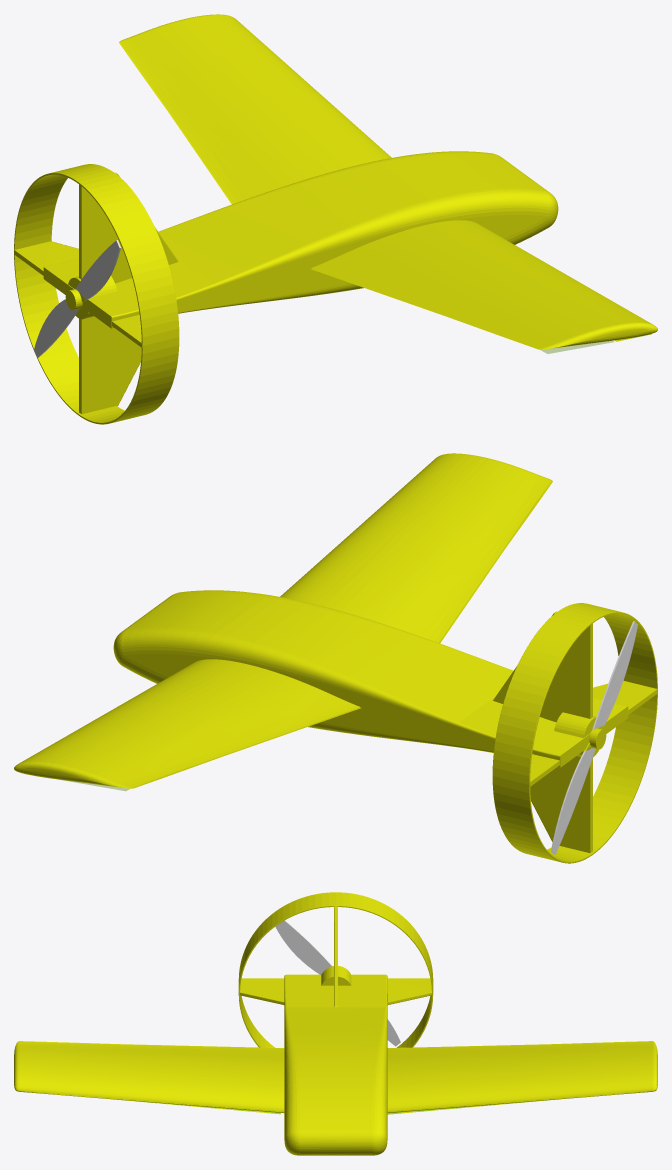
Rendered from Health Drone OG FBX.fbx.
3 views of the same model, one above another, from view 1: azimuth 30°, elevation 25°; view 2: azimuth 150°, elevation 25°; view 3: azimuth 270°, elevation 25° (orthographic). The views are drawn at different scales.
Parts seen in each view (by area): view 1: HealthDrone - Wings, HealthDrone - Body, HealthDrone - Tail, HealthDrone - Rotor; view 2: HealthDrone - Wings, HealthDrone - Body, HealthDrone - Tail, HealthDrone - Rotor; view 3: HealthDrone - Wings, HealthDrone - Body, HealthDrone - Tail, HealthDrone - Rotor, Pattern.
Boxes of the visible parts, <box> form: HealthDrone - Wings: <box>119,14,657,349</box>; HealthDrone - Body: <box>43,151,558,328</box>; HealthDrone - Tail: <box>14,164,179,424</box>; HealthDrone - Rotor: <box>34,240,120,357</box>; HealthDrone - Wings: <box>14,453,552,788</box>; HealthDrone - Body: <box>113,590,628,767</box>; HealthDrone - Tail: <box>492,603,657,863</box>; HealthDrone - Rotor: <box>551,621,637,854</box>; HealthDrone - Wings: <box>14,1041,657,1112</box>; HealthDrone - Body: <box>283,974,388,1155</box>; HealthDrone - Tail: <box>238,892,433,1047</box>; HealthDrone - Rotor: <box>275,920,400,1046</box>; Pattern: <box>117,1099,558,1114</box>.
Size of the model in its own units: 1.03 by 0.4983 by 1.65.
